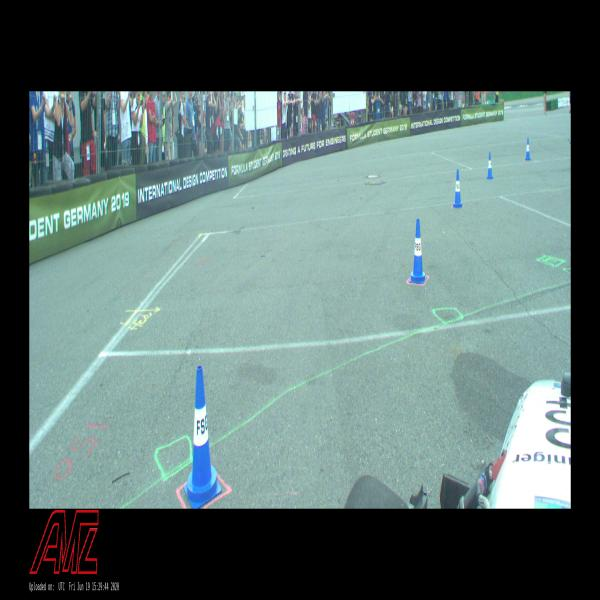blue_cone: (184, 366, 222, 509), (408, 218, 426, 284), (453, 170, 463, 208), (486, 152, 494, 178), (525, 138, 531, 160)
